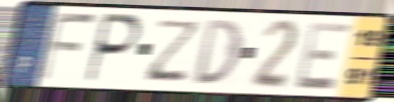2: (249, 17, 301, 91)
D: (192, 17, 245, 87)
E: (293, 20, 356, 92)
F: (35, 10, 99, 84)
P: (82, 11, 143, 86)
Z: (141, 18, 204, 84)
